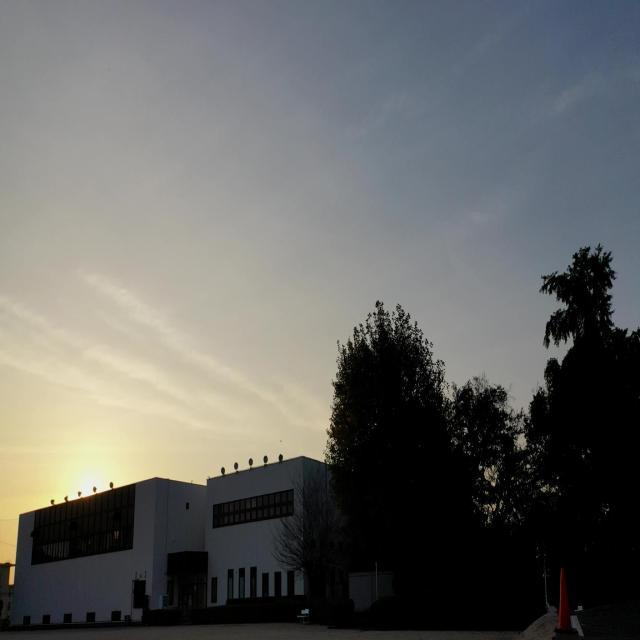Birds: (278, 437, 284, 444)
